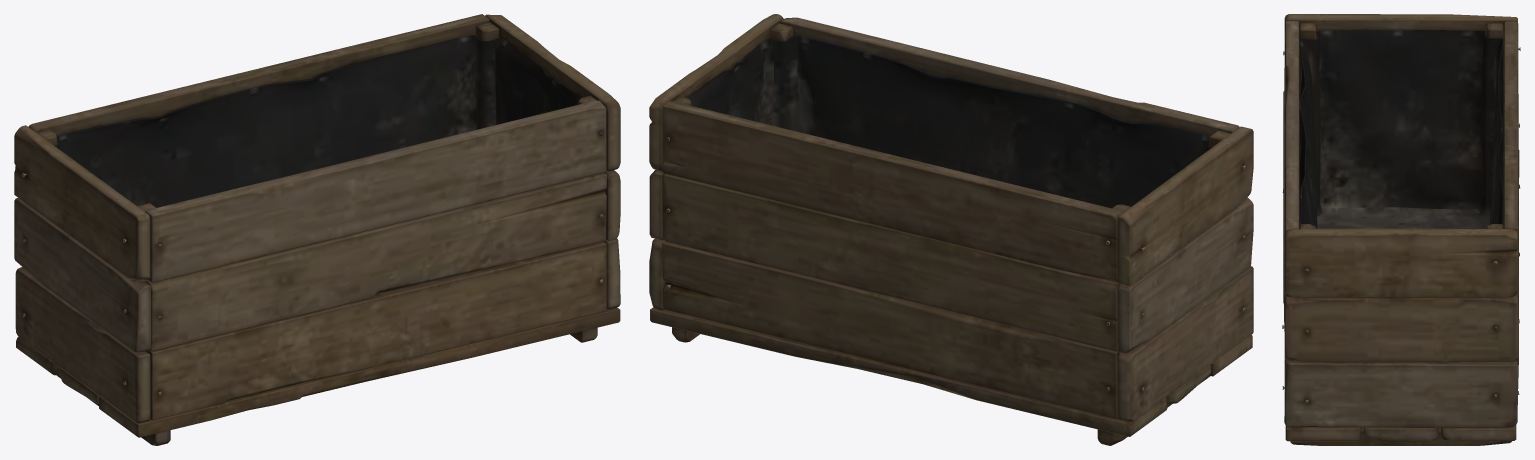
File: planter_box_01.glb
3 renders of one model, left to right at view 1: azimuth 30°, elevation 25°; view 2: azimuth 150°, elevation 25°; view 3: azimuth 270°, elevation 25°, orthographic. The views are drawn at different scales.
Visible parts, largest first — view 1: planter_box_01; view 2: planter_box_01; view 3: planter_box_01.
Part boxes in pixels (x1,y1,x2,y2): planter_box_01: (14, 14, 620, 445); planter_box_01: (649, 14, 1253, 445); planter_box_01: (1282, 14, 1520, 445).
Size of the model in its own units: 0.9126 by 0.425 by 0.4137.
1 material, 1 textured.
